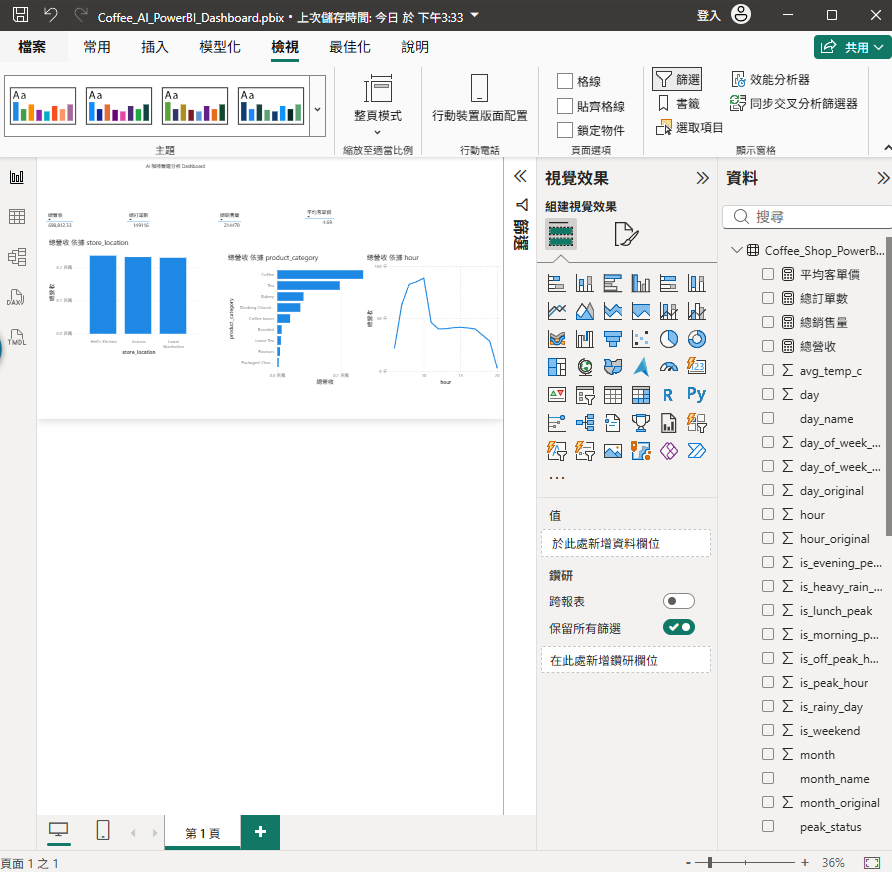

What the dashboard file says about the page in this screenshot:
{"tool":"powerbi","page":{"name":"第 1 頁","canvas":[1280,720],"ordinal":0},"visuals":[{"type":"tableEx","fields":{"Values":["Coffee_Shop_PowerBI_Dashboard_Data.總營收"]},"box":[19.7,141.5,240,69.9],"z":0},{"type":"tableEx","fields":{"Values":["Coffee_Shop_PowerBI_Dashboard_Data.總訂單數"]},"box":[240.9,141.5,240,69.9],"z":1000},{"type":"tableEx","fields":{"Values":["Coffee_Shop_PowerBI_Dashboard_Data.總銷售量"]},"box":[490.7,141.5,240,69.9],"z":2000},{"type":"tableEx","fields":{"Values":["Coffee_Shop_PowerBI_Dashboard_Data.平均客單價"]},"box":[730.7,133.4,240,69.9],"z":3000},{"type":"clusteredColumnChart","fields":{"Category":["Coffee_Shop_PowerBI_Dashboard_Data.store_location"],"Y":["Coffee_Shop_PowerBI_Dashboard_Data.總營收"]},"box":[27.5,219.9,430,329.9],"z":4000},{"type":"clusteredBarChart","fields":{"Y":["Coffee_Shop_PowerBI_Dashboard_Data.總營收"],"Category":["Coffee_Shop_PowerBI_Dashboard_Data.product_category"]},"box":[520,260,430,370],"z":5000},{"type":"lineChart","fields":{"Category":["Coffee_Shop_PowerBI_Dashboard_Data.hour"],"Y":["Coffee_Shop_PowerBI_Dashboard_Data.總營收"]},"box":[902,260,378,370],"z":6000},{"type":"textbox","box":[30,10,700,45],"z":7000}]}

Visuals, with their boxes on the page's 1280x720 design canvas (x1, y1, x2, y2). These are canvas units, not pixel positions in the 892x872 screenshot, which may show the page scaled, cropped or inside an application window:
tableEx - Coffee_Shop_PowerBI_Dashboard_Data.總營收: {"x1": 20, "y1": 142, "x2": 260, "y2": 211}
tableEx - Coffee_Shop_PowerBI_Dashboard_Data.總訂單數: {"x1": 241, "y1": 142, "x2": 481, "y2": 211}
tableEx - Coffee_Shop_PowerBI_Dashboard_Data.總銷售量: {"x1": 491, "y1": 142, "x2": 731, "y2": 211}
tableEx - Coffee_Shop_PowerBI_Dashboard_Data.平均客單價: {"x1": 731, "y1": 133, "x2": 971, "y2": 203}
clusteredColumnChart - Coffee_Shop_PowerBI_Dashboard_Data.store_location x Coffee_Shop_PowerBI_Dashboard_Data.總營收: {"x1": 28, "y1": 220, "x2": 458, "y2": 550}
clusteredBarChart - Coffee_Shop_PowerBI_Dashboard_Data.總營收 x Coffee_Shop_PowerBI_Dashboard_Data.product_category: {"x1": 520, "y1": 260, "x2": 950, "y2": 630}
lineChart - Coffee_Shop_PowerBI_Dashboard_Data.hour x Coffee_Shop_PowerBI_Dashboard_Data.總營收: {"x1": 902, "y1": 260, "x2": 1280, "y2": 630}
textbox: {"x1": 30, "y1": 10, "x2": 730, "y2": 55}
